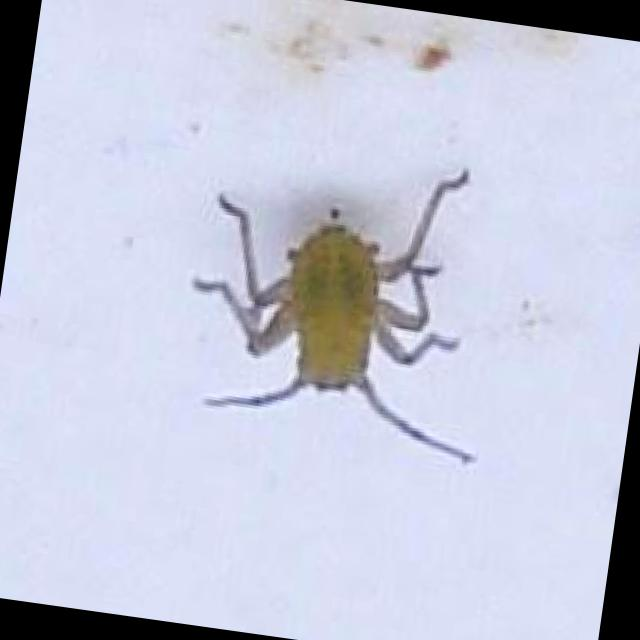Aphids: (166, 144, 503, 488)
